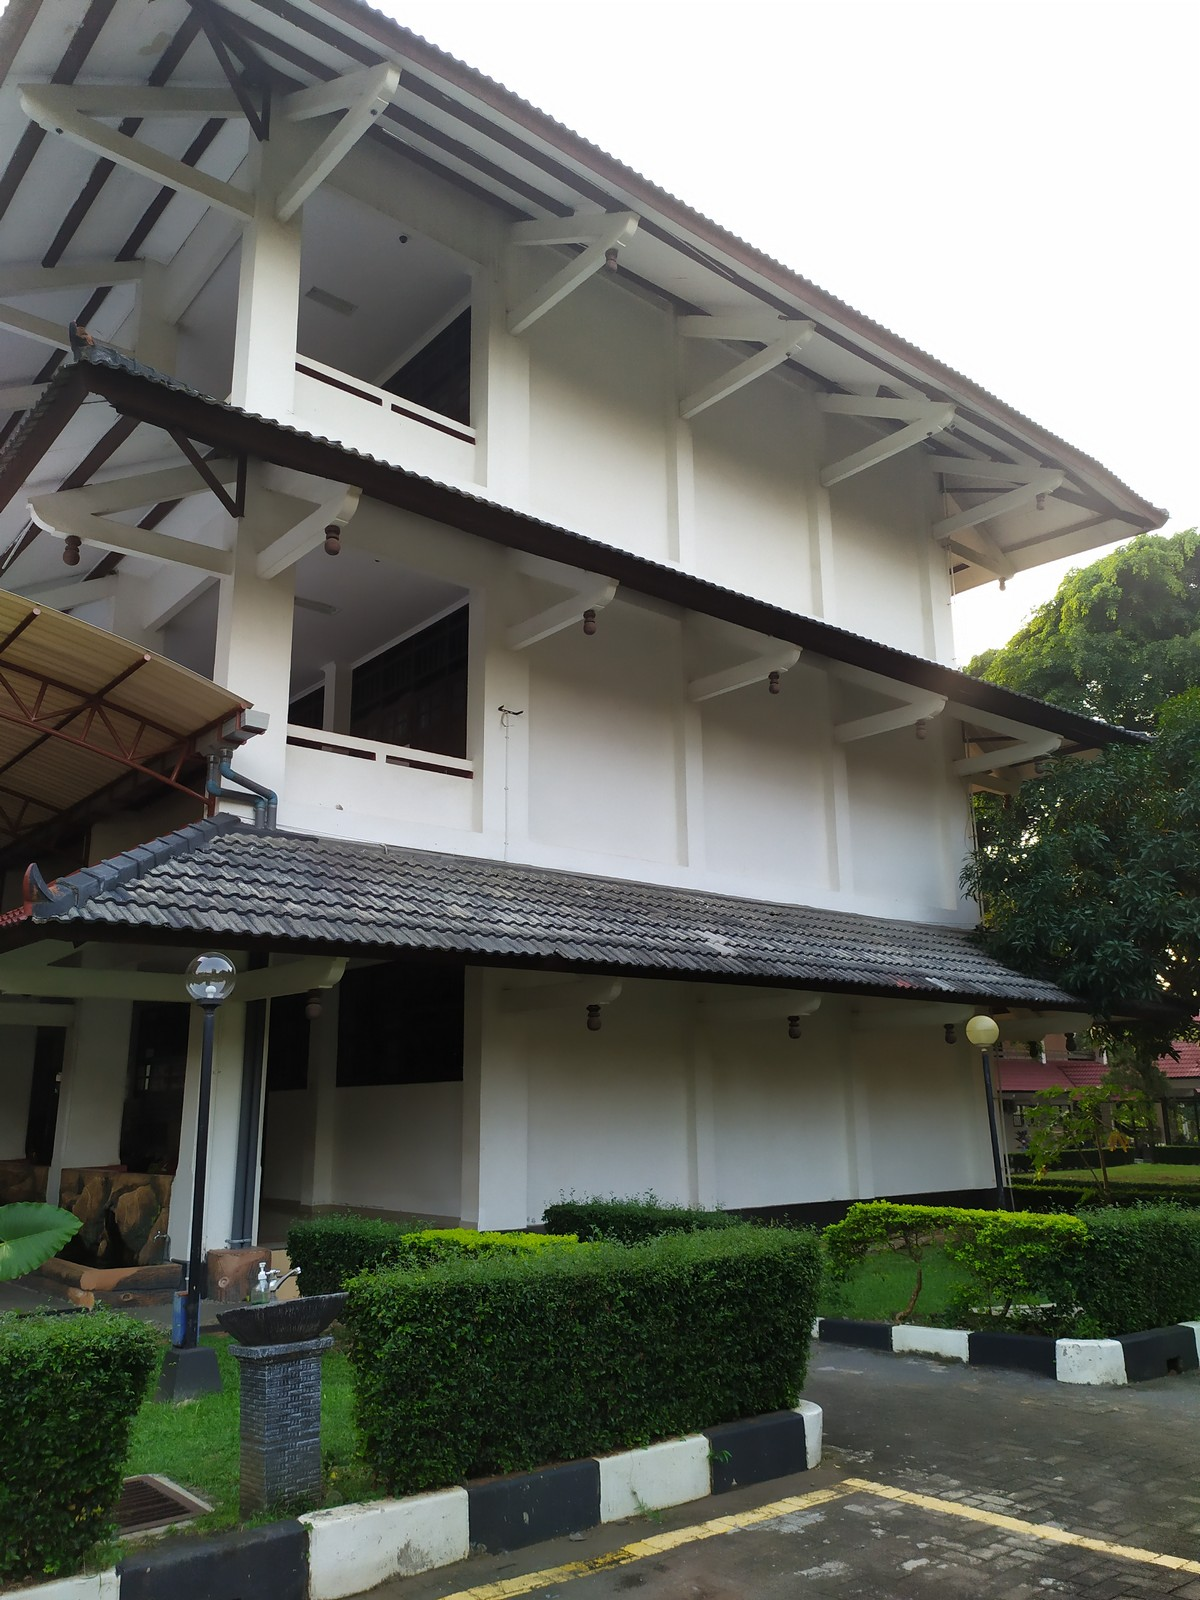concrete beam: (78, 134, 250, 222), (268, 123, 358, 223), (673, 354, 782, 425), (507, 246, 592, 323), (818, 431, 916, 490), (495, 597, 584, 655), (678, 654, 768, 706), (827, 703, 916, 753)
concrete column: (203, 524, 299, 826), (458, 554, 539, 864), (223, 152, 313, 426), (450, 976, 537, 1225), (460, 239, 539, 496), (45, 995, 134, 1191), (668, 631, 713, 876), (798, 396, 846, 624), (914, 455, 964, 668), (661, 328, 705, 569), (681, 997, 729, 1214), (834, 1005, 885, 1201), (818, 683, 862, 892)
